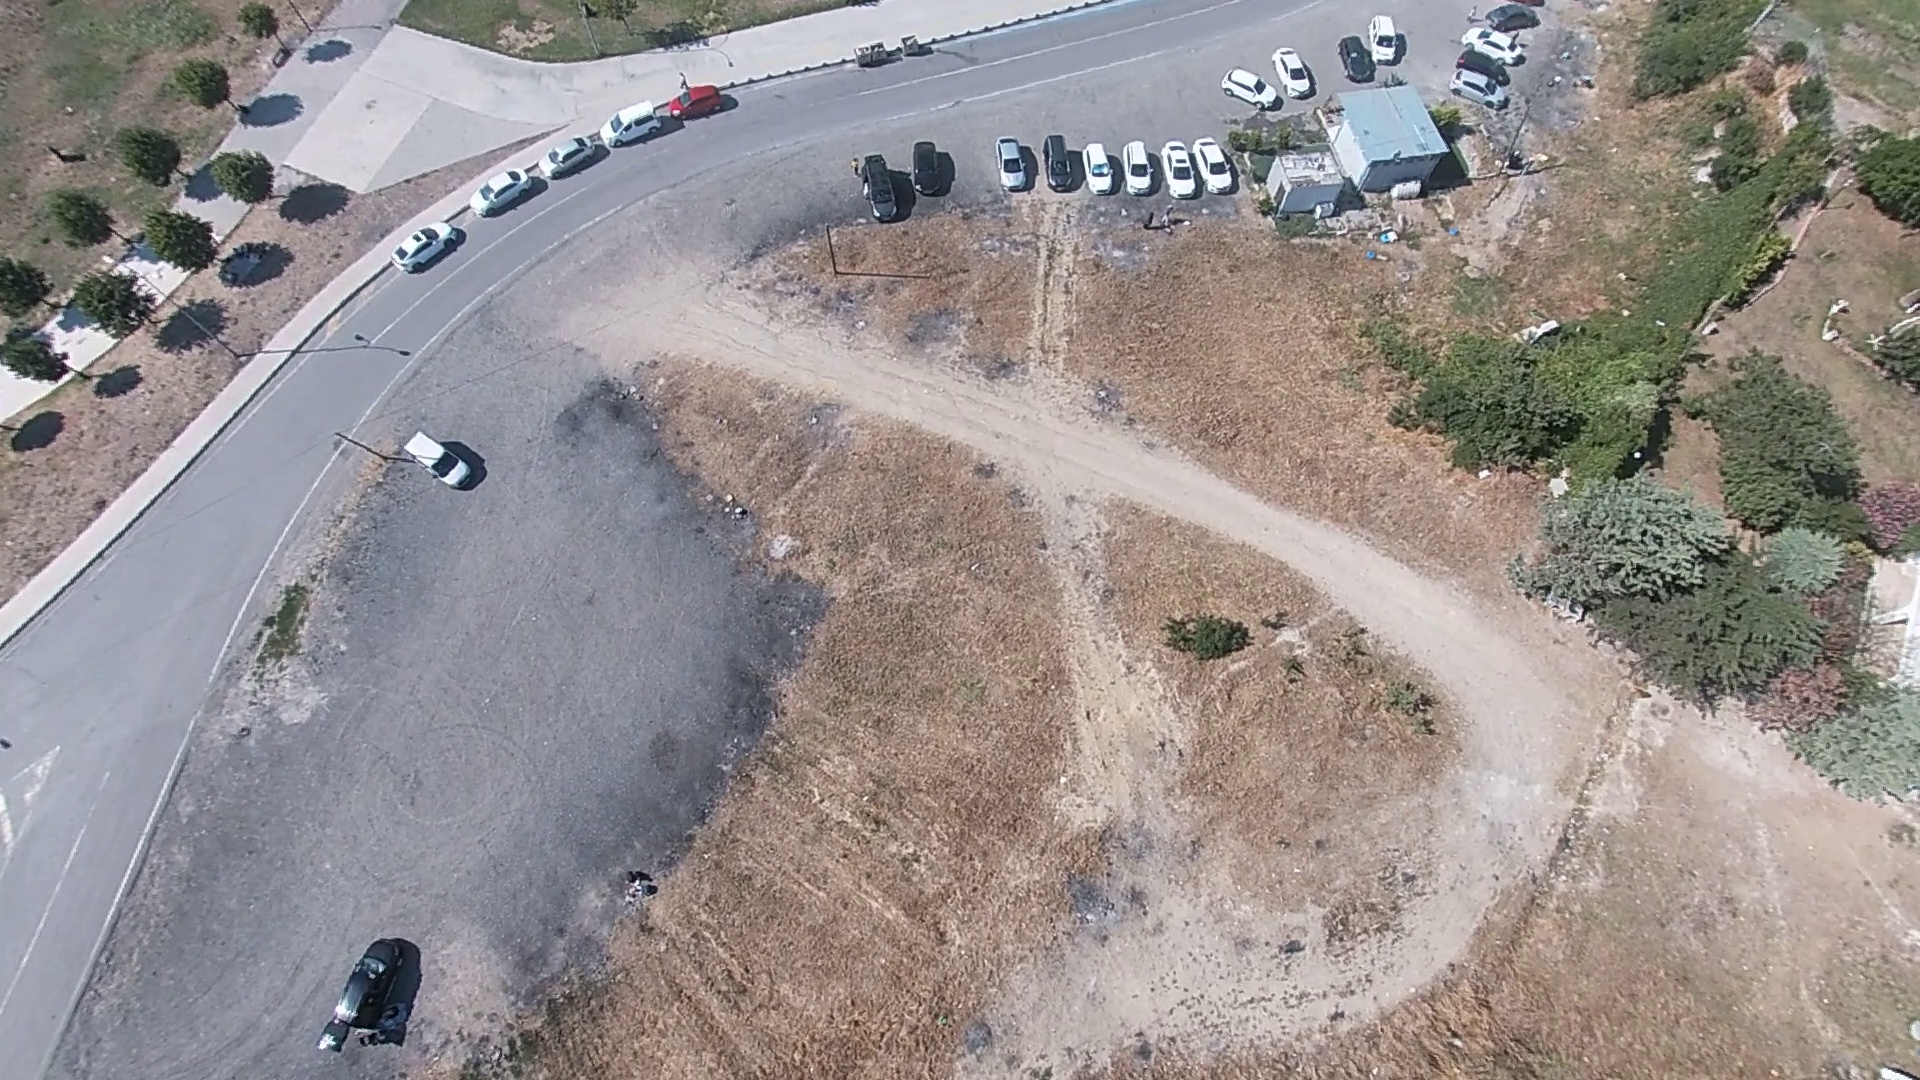arac: (315, 936, 411, 1047), (597, 76, 732, 149), (472, 153, 552, 212), (404, 430, 481, 488), (390, 214, 465, 272), (1193, 133, 1234, 190), (1221, 65, 1272, 109), (1274, 46, 1312, 98)
insan: (619, 872, 659, 903)
